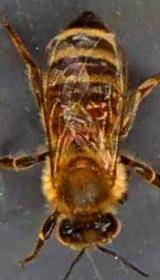varroa_mite: (80, 97, 110, 123)
